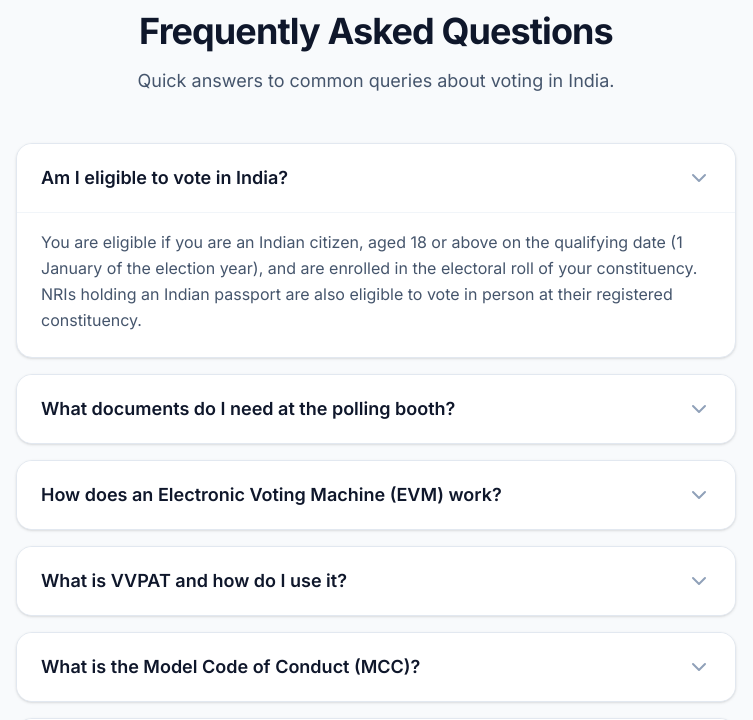
Test: FAQ component › clicking a collapsed question expands it
Click the button with test id "faq-button-1". click: {"x": 376, "y": 409}
box: x1=17 y1=375 x2=735 y2=443
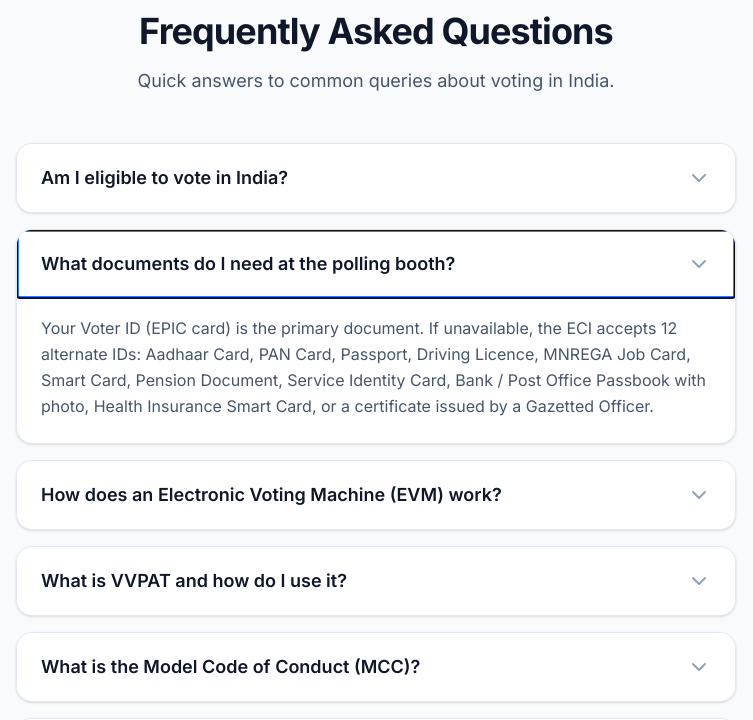
Check: the button with test id "faq-button-1" is expanded, box x1=17 y1=230 x2=735 y2=298
